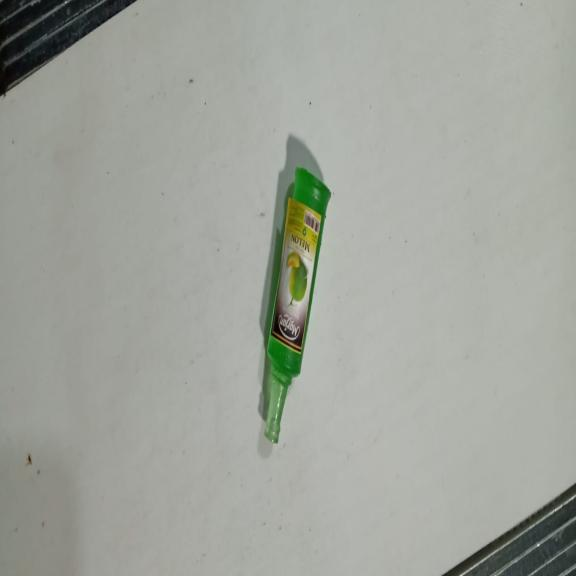Plastik: (263, 165, 332, 446)
